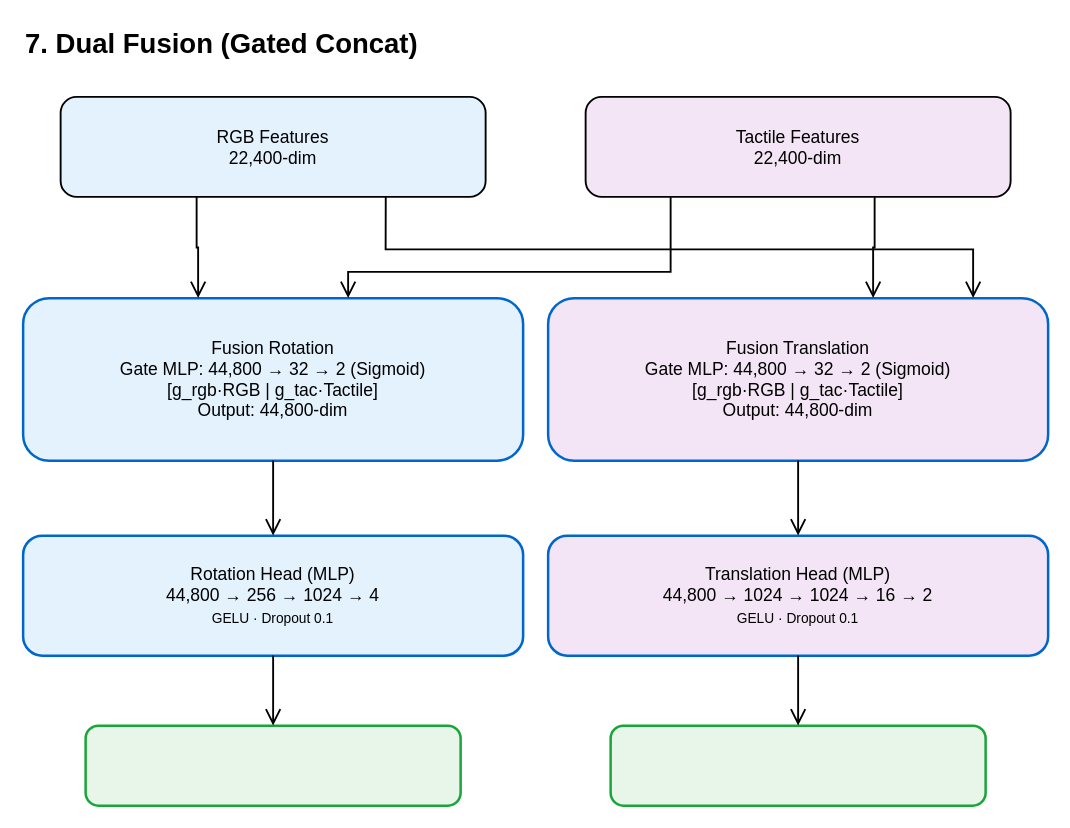
The diagram is 1070 pixels wide and 828 high, and some of its shapes have lost their labels. The centre of each missing label's shape, as x and y in pixels:
Quaternion q L2-normalised, ℝ⁴: the point at 272,765
Translation Vector [ y , z ] x fixed to 0: the point at 797,765
